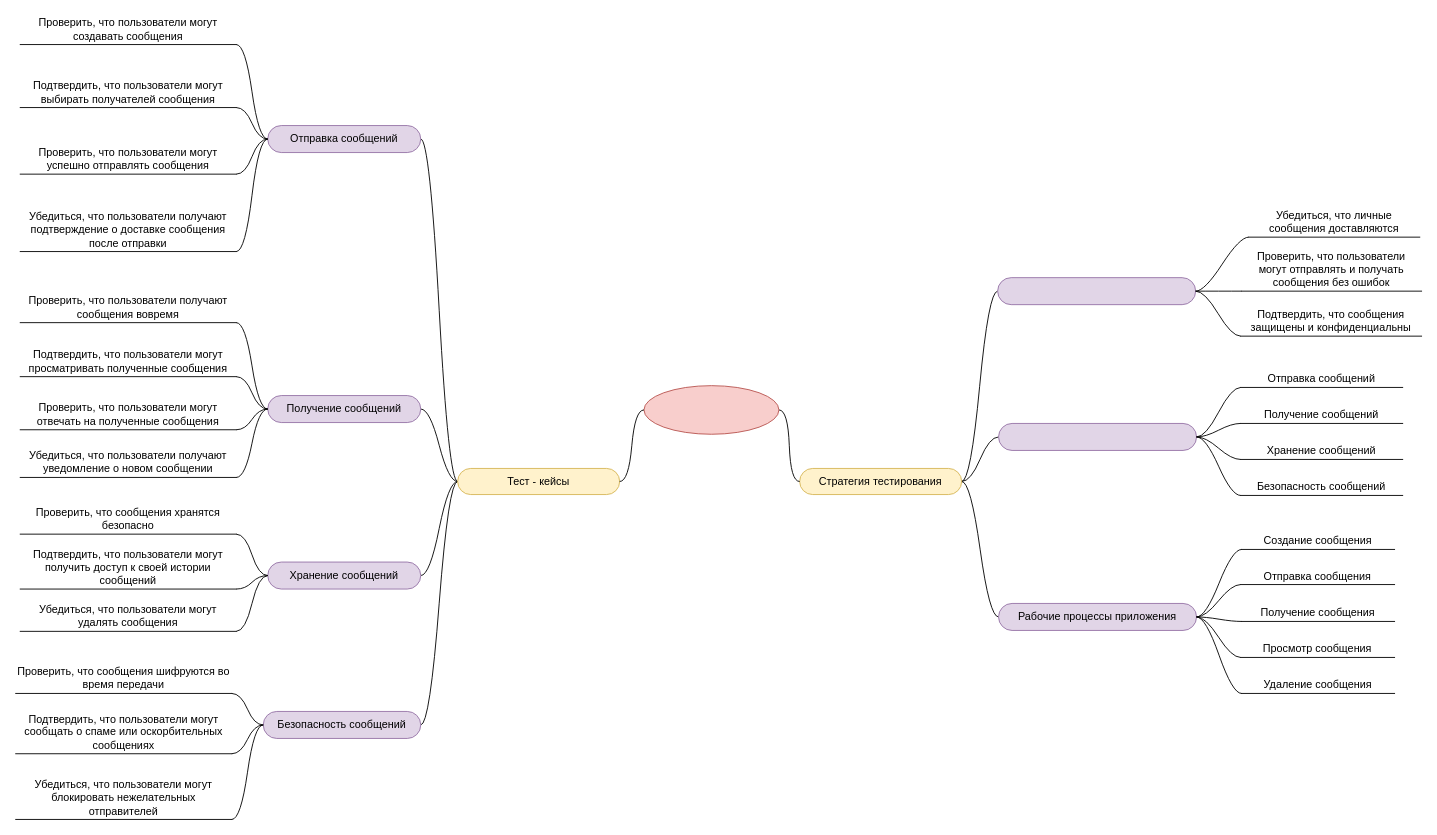
This 1437x835 diagram has some shape labels left out. Each missing label, with the centre of its shape:
"Области тестирования" belongs at pixel 1097 436.
"Сообщения (ВКонтакте)" belongs at pixel 711 409.
"Цели" belongs at pixel 1096 291.
